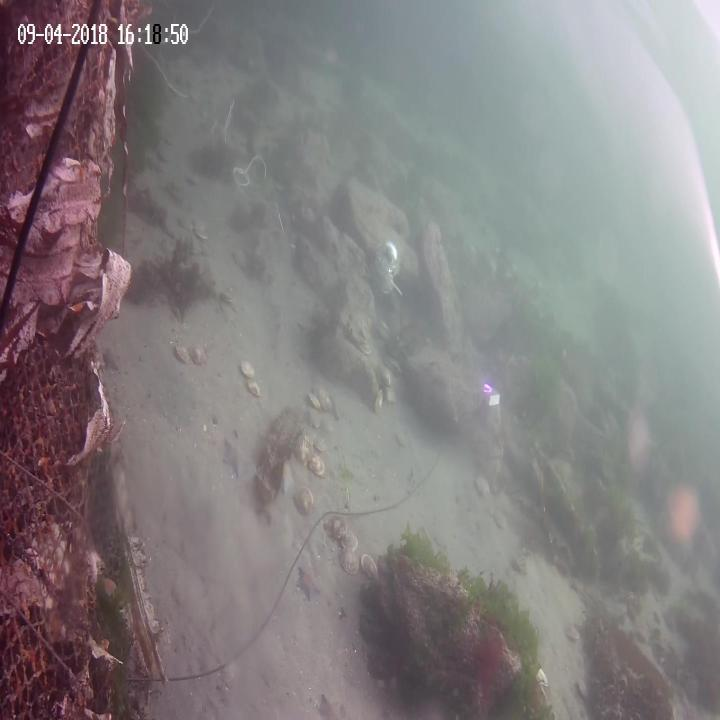scallop: (370, 253, 392, 297), (359, 548, 381, 584), (292, 429, 316, 461), (337, 546, 361, 578), (328, 506, 347, 542), (292, 487, 316, 515), (383, 235, 399, 275), (229, 244, 250, 270), (308, 452, 326, 479), (474, 471, 491, 499), (187, 344, 204, 370), (315, 386, 332, 412), (511, 550, 526, 578), (191, 216, 207, 242), (305, 389, 321, 413), (565, 620, 580, 644), (246, 377, 264, 397), (240, 358, 256, 380), (372, 388, 384, 416), (176, 212, 194, 230), (176, 344, 190, 364)
starfish: (662, 475, 707, 569), (626, 402, 658, 482), (221, 435, 247, 477), (298, 562, 322, 602), (98, 572, 121, 608), (98, 340, 122, 374), (254, 494, 276, 526), (316, 691, 340, 720), (145, 150, 164, 176)
